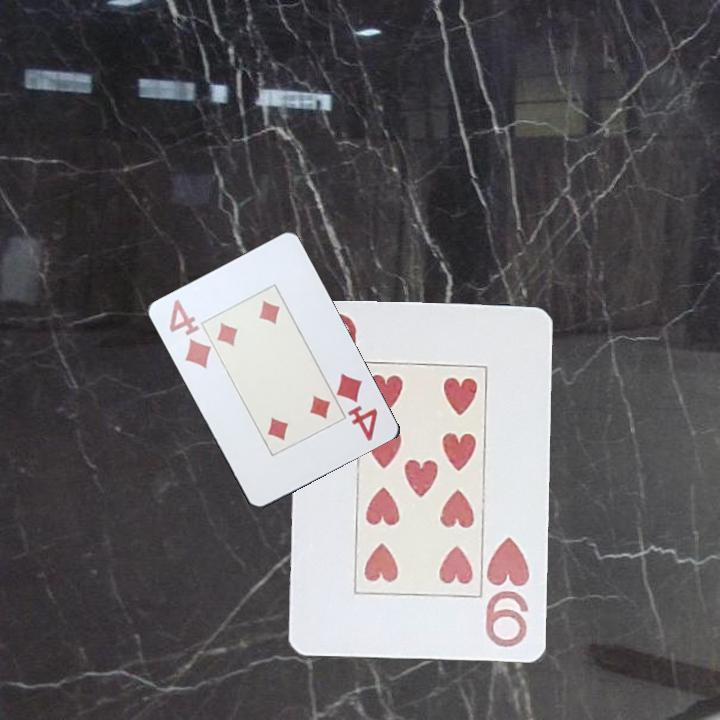4d: (166, 296, 214, 372), (333, 369, 381, 444)
9h: (483, 534, 533, 651)
